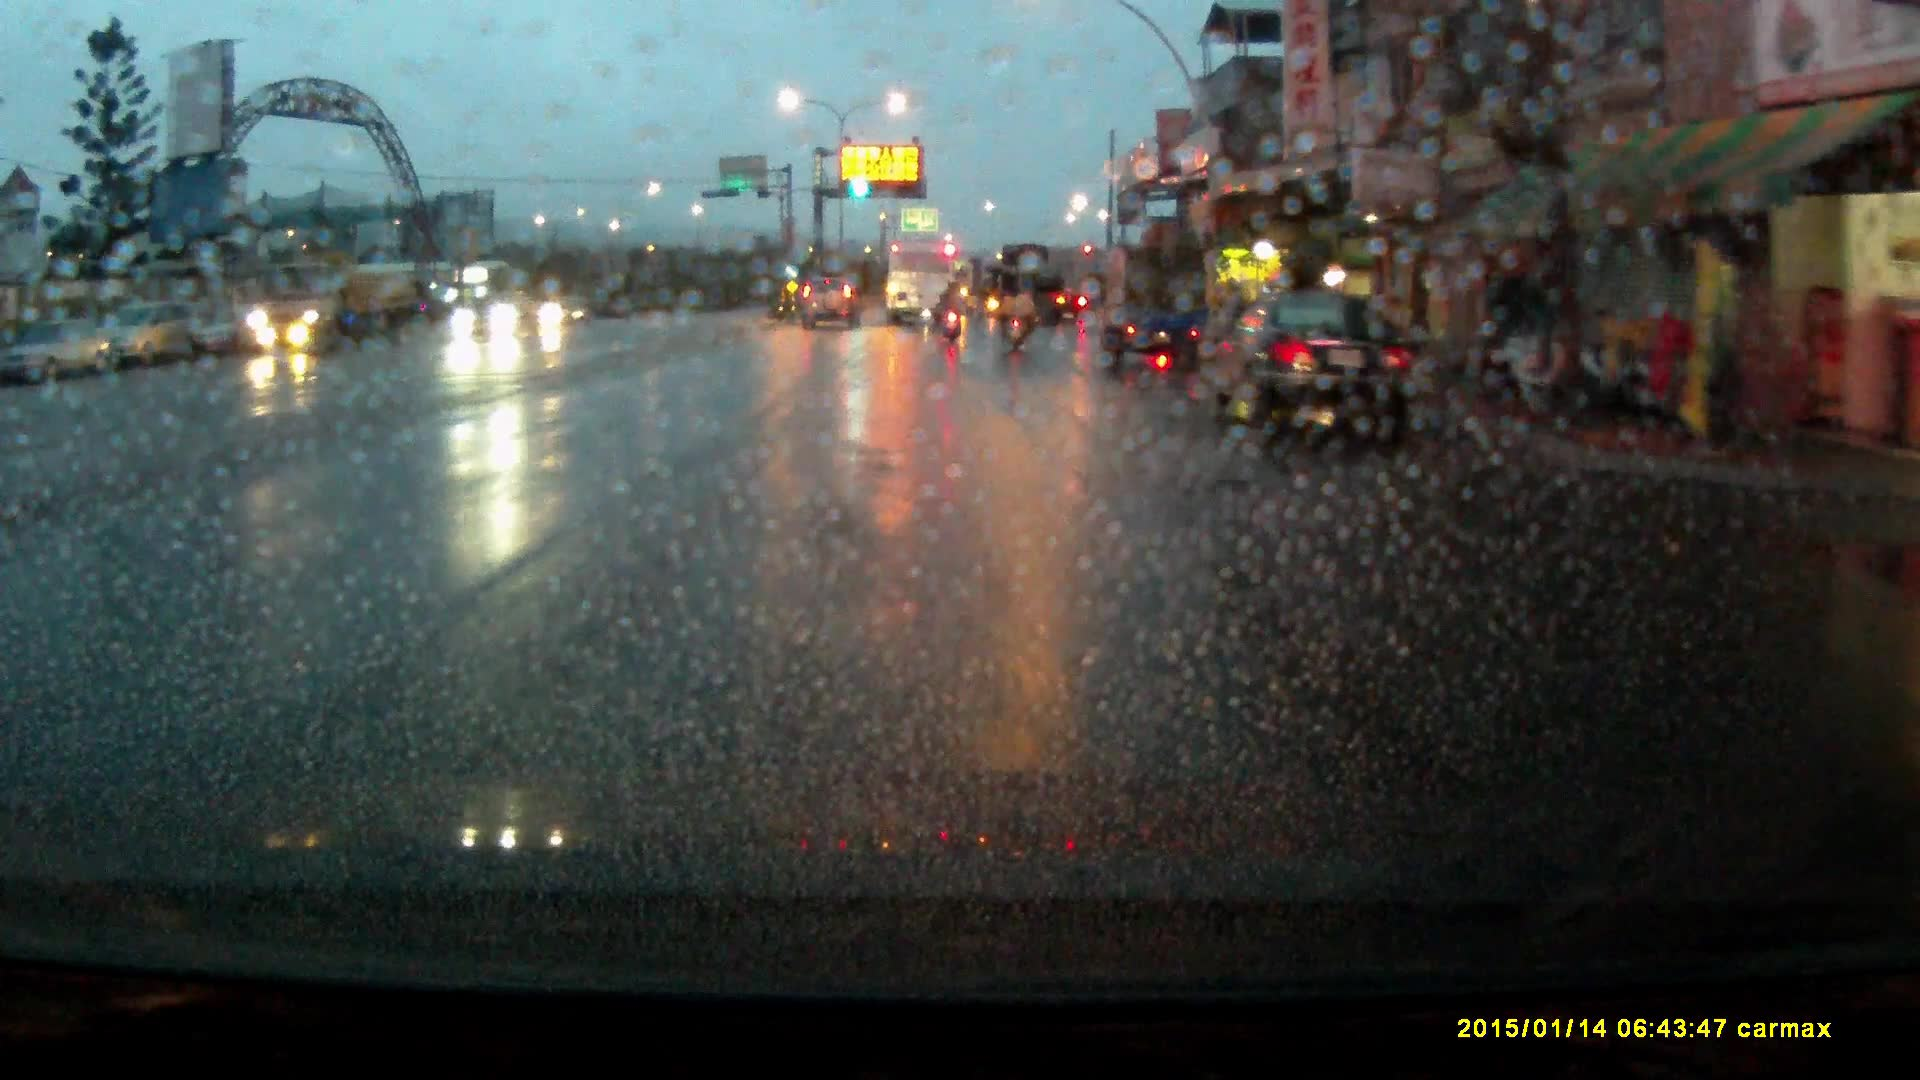rider: (995, 276, 1031, 359), (941, 281, 967, 349)
vehicle: (1205, 298, 1426, 440), (245, 259, 423, 359), (1094, 252, 1212, 370), (90, 307, 190, 376), (1000, 247, 1070, 334), (25, 323, 112, 390), (886, 248, 953, 334), (450, 298, 538, 346), (800, 278, 862, 338), (544, 295, 594, 336)
